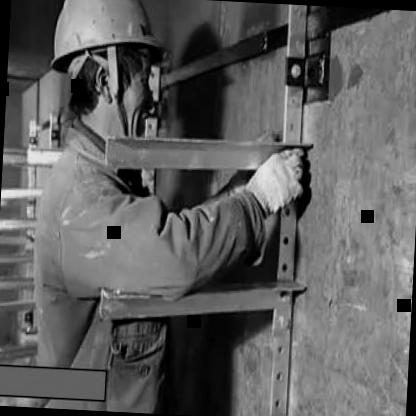helmet: (40, 0, 178, 158)
